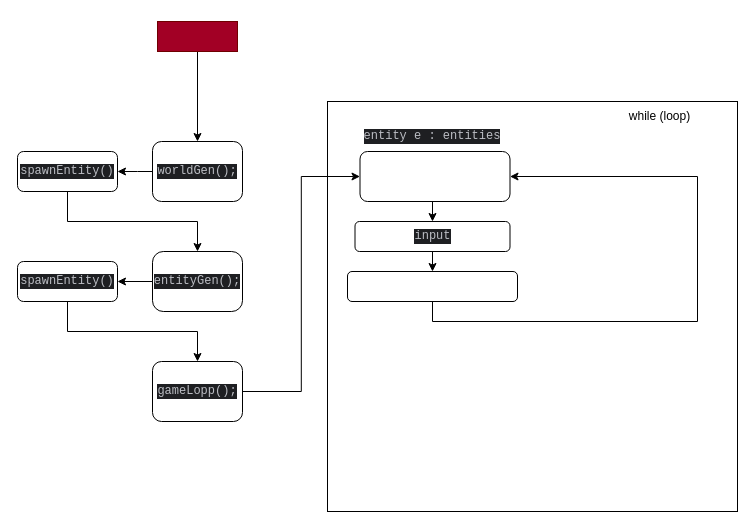
Some shapes in this 755 by 529 pixel diagram are drawn without their labels. The shapes that lost their labels are listed below. From the top down, each one's centre as x and y in pixels, then its label:
point 197,36: main
point 434,176: e.update();
point 432,286: if (input ==1) writeMap();
